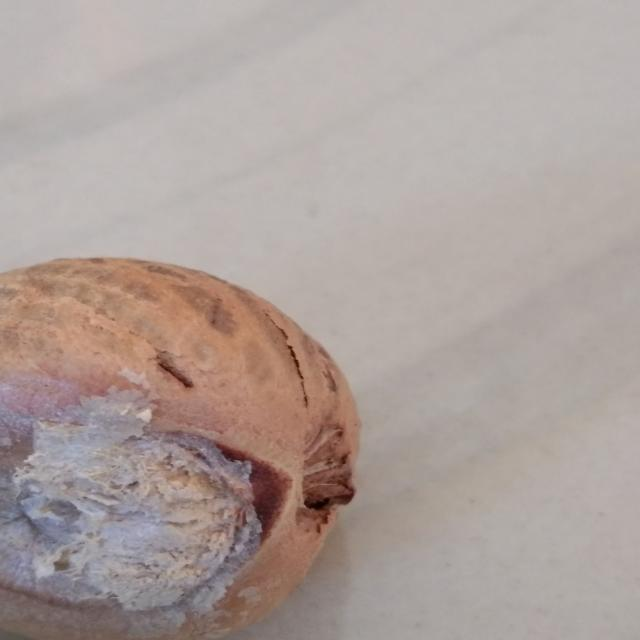phatora: (0, 238, 405, 640)
